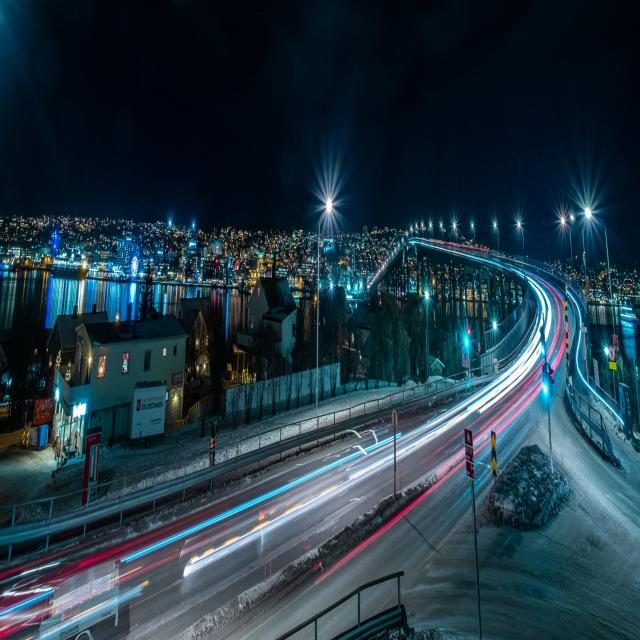Street Light: (585, 206, 625, 422), (315, 198, 334, 409), (560, 217, 574, 285), (425, 291, 431, 381), (517, 220, 526, 265), (494, 222, 501, 255), (471, 224, 476, 248), (454, 223, 458, 244), (440, 223, 444, 241), (430, 223, 432, 240)
